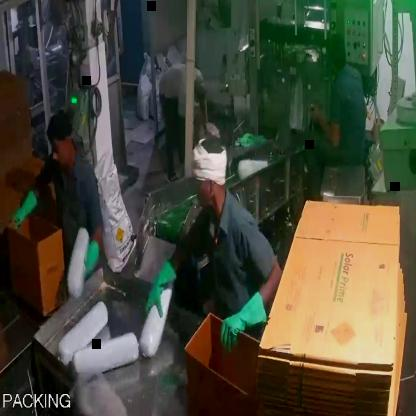glove: (204, 294, 270, 358), (140, 251, 180, 320), (3, 185, 46, 237), (76, 230, 109, 286)
no_glove: (302, 95, 348, 153)
